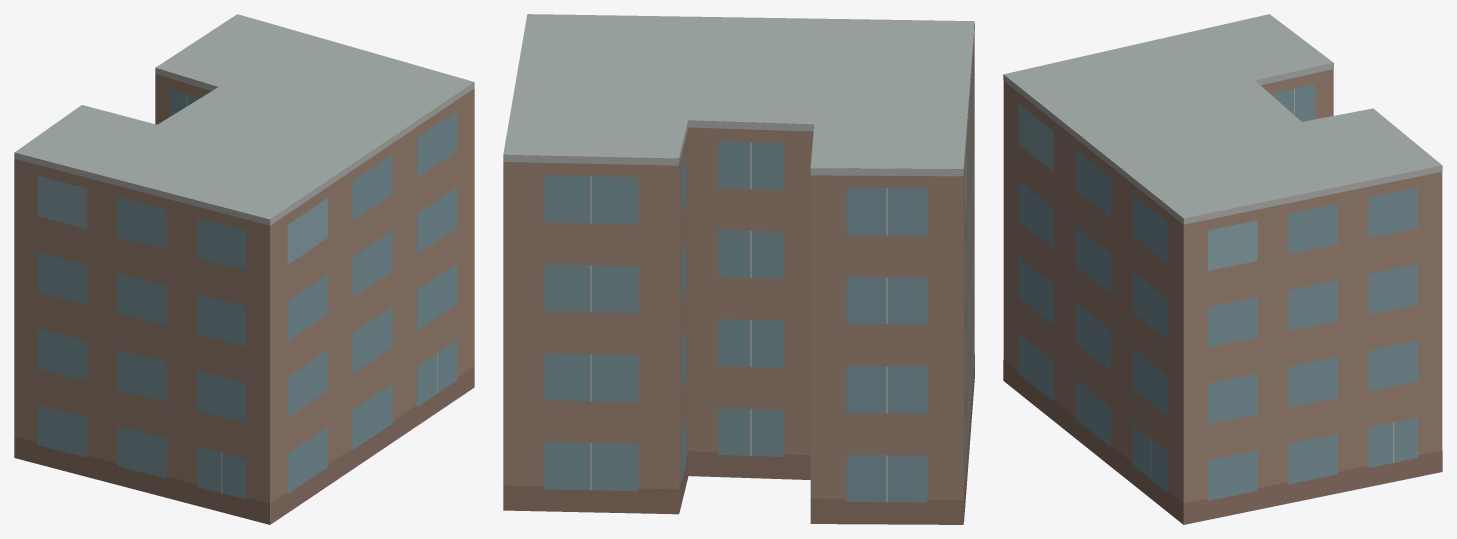
File: survey-upis-32825184.glb
3 renders of one model, left to right at view 1: azimuth 30°, elevation 25°; view 2: azimuth 150°, elevation 25°; view 3: azimuth 270°, elevation 25°, orthographic. The views are drawn at different scales.
Parts seen in each view (by area): view 1: survey-upis-32825184.tmp; view 2: survey-upis-32825184.tmp; view 3: survey-upis-32825184.tmp.
Part boxes in pixels (box(x1,y1,x2,y2)): survey-upis-32825184.tmp: box(14, 14, 474, 524); survey-upis-32825184.tmp: box(503, 14, 974, 524); survey-upis-32825184.tmp: box(1003, 14, 1442, 524).
Size of the model in its own units: 17.17 by 12 by 15.59.
